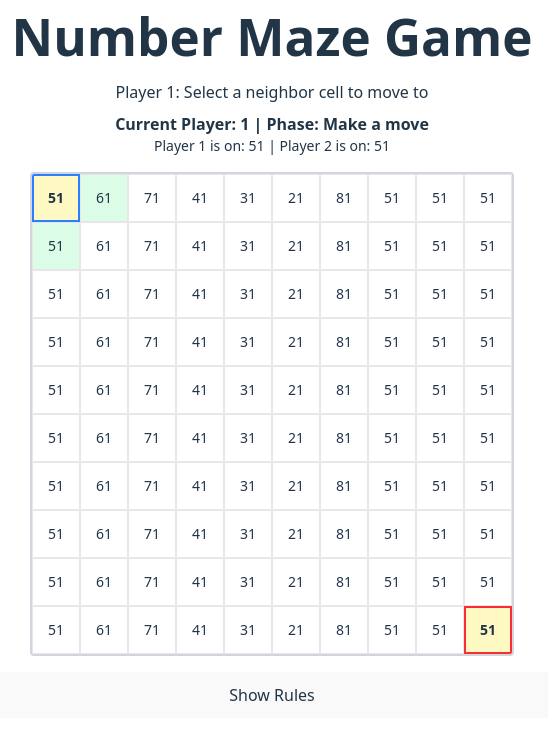
Game Mechanics › updates player position when a valid move is clicked
Click the 1st element showing "61" at coordinates (104, 198), box [80,174,128,222]
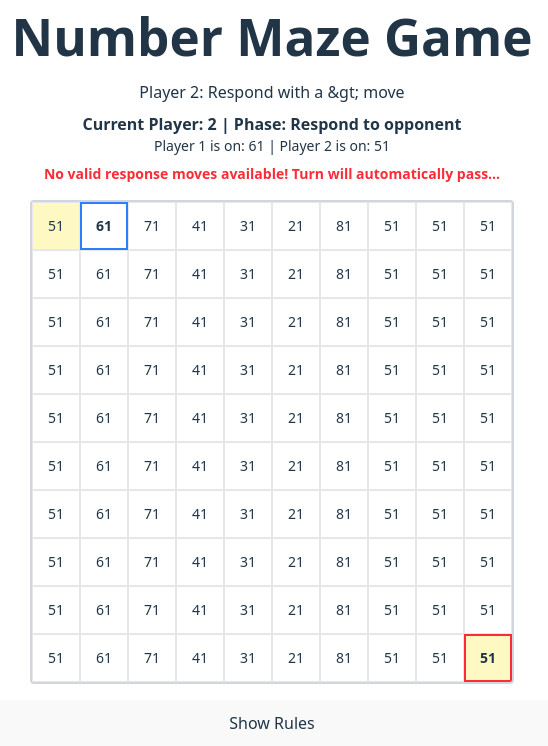
Check: the text "Current Player: 2 | Phase: Respond to opponent" is shown, box [82,113,462,135]
